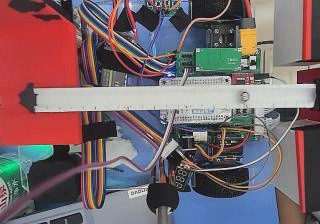ironball: (239, 91, 248, 101)
